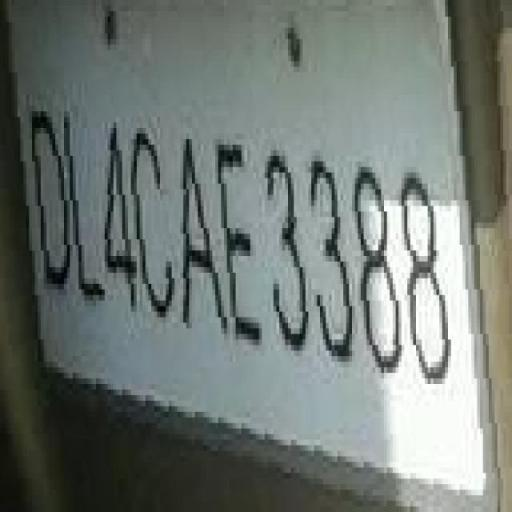number plate: (17, 44, 512, 445)
